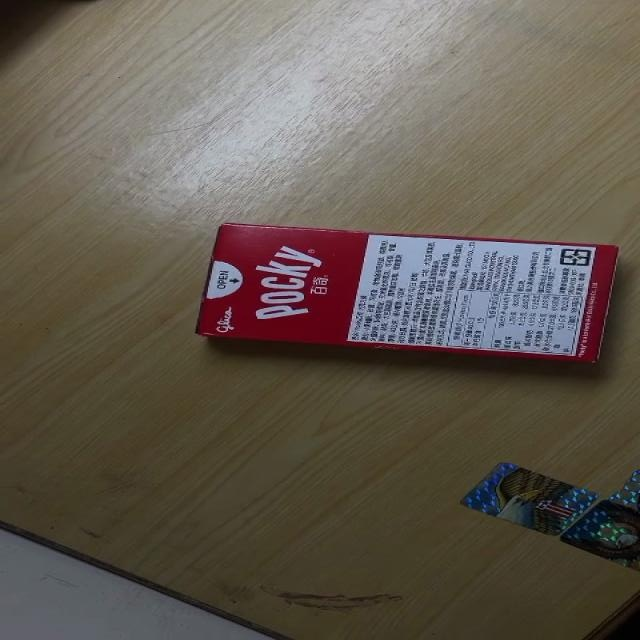Pocky: (194, 224, 618, 362)
